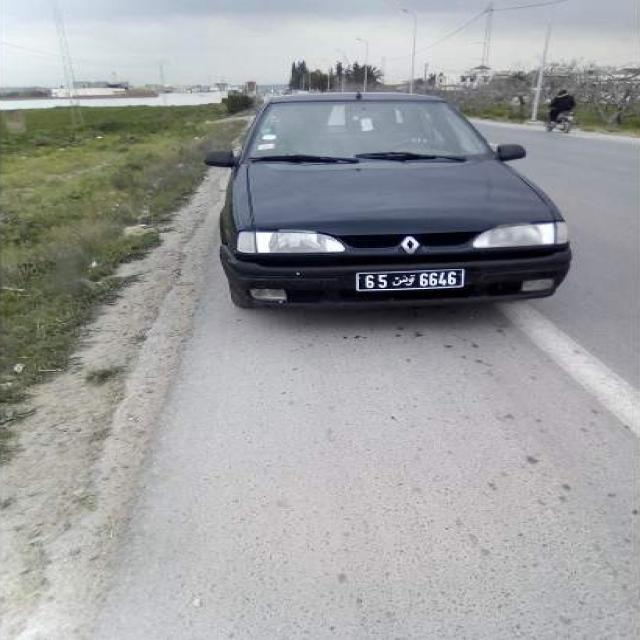licence plate: (359, 269, 464, 290)
